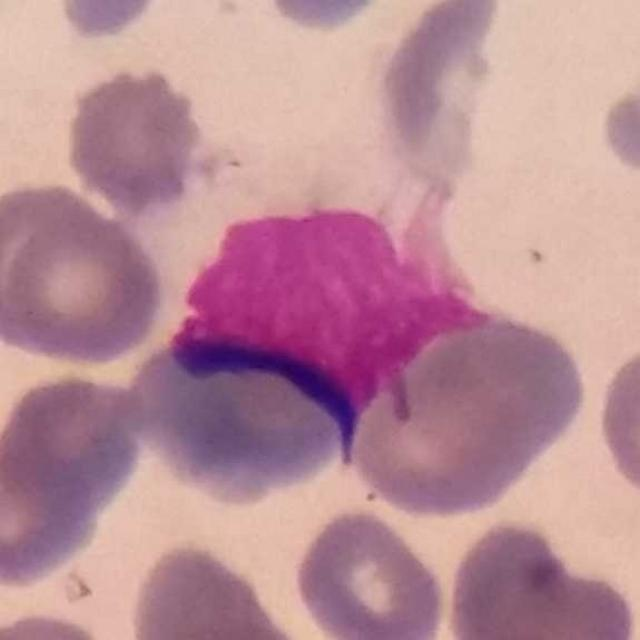Monocyte: (170, 120, 485, 418)
RBC: (341, 309, 590, 521), (125, 320, 357, 507), (0, 177, 169, 370), (0, 366, 145, 543), (370, 0, 508, 180), (440, 516, 636, 640), (60, 61, 210, 216), (289, 504, 452, 640), (124, 536, 312, 639), (0, 416, 109, 589), (592, 333, 640, 514), (595, 44, 640, 192), (51, 0, 169, 47), (254, 0, 402, 36), (0, 605, 125, 640)
